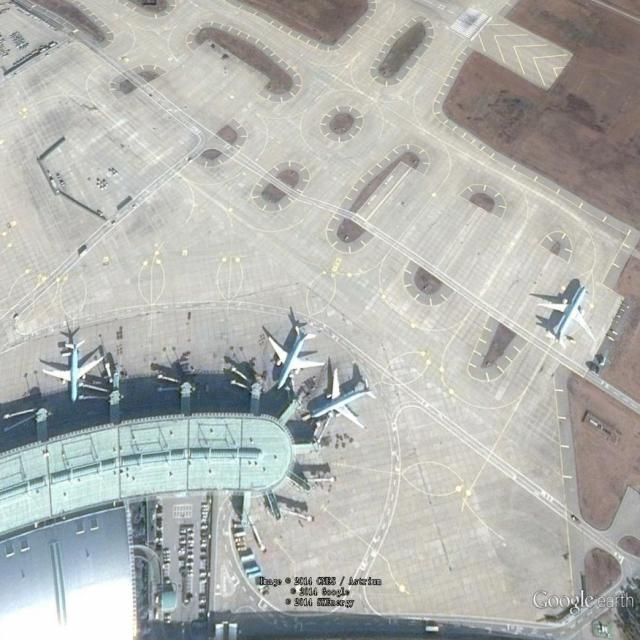aircraft: (304, 366, 381, 439), (264, 320, 331, 398), (535, 282, 605, 353), (39, 336, 108, 407)
